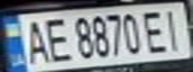0: (121, 10, 145, 56)
7: (106, 11, 127, 57)
8: (69, 12, 93, 61), (90, 11, 109, 58)
A: (18, 16, 51, 65)
E: (42, 15, 72, 63), (139, 7, 169, 55)
I: (157, 6, 190, 52)
